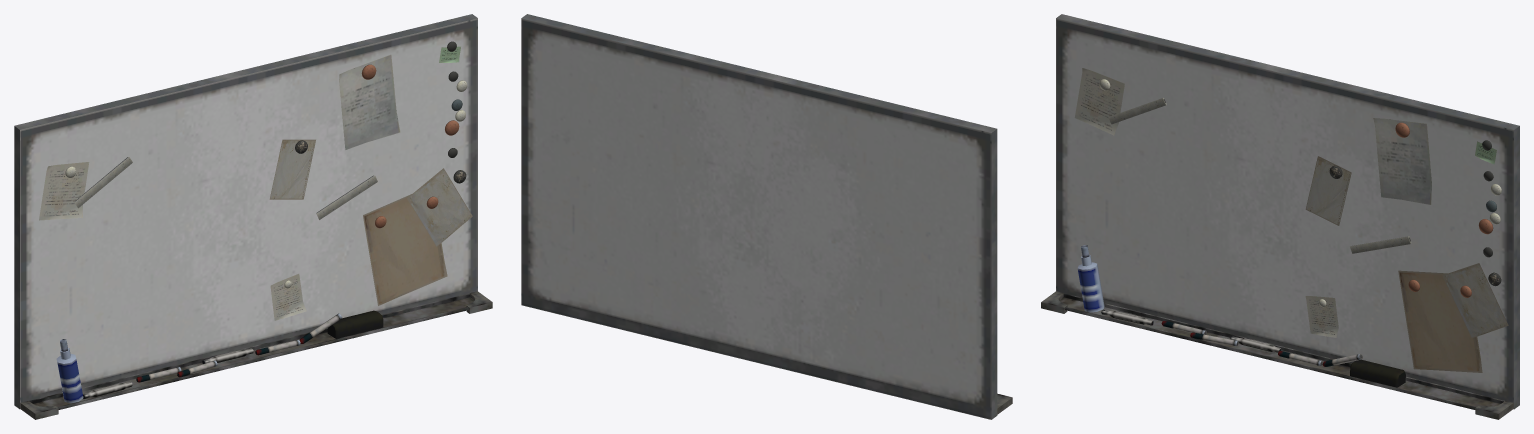
Rendered from sm39_012_whiteboardset01a.fbx.
3 renders of one model, left to right at view 1: azimuth 30°, elevation 25°; view 2: azimuth 150°, elevation 25°; view 3: azimuth 330°, elevation 25°, orthographic. The views are drawn at different scales.
Visible parts, largest first — view 1: LOD_1_Group_0_Sub_1__sm30_061_WhiteBoard02A_A_Mat, LOD_1_Group_0_Sub_3__sm36_011_Document01A_A_Mat__Env_AlphaTe, LOD_1_Group_0_Sub_2__sm36_012_PaperMagnet01A_A_Mat, LOD_1_Group_2_Sub_1__sm36_012_PaperMagnet01A_A_Mat, LOD_1_Group_4_Sub_1__sm36_012_PaperMagnet01A_A_Mat, LOD_1_Group_1_Sub_1__sm36_012_PaperMagnet01A_A_Mat; view 2: LOD_1_Group_0_Sub_1__sm30_061_WhiteBoard02A_A_Mat; view 3: LOD_1_Group_0_Sub_1__sm30_061_WhiteBoard02A_A_Mat, LOD_1_Group_0_Sub_3__sm36_011_Document01A_A_Mat__Env_AlphaTe, LOD_1_Group_0_Sub_2__sm36_012_PaperMagnet01A_A_Mat, LOD_1_Group_2_Sub_1__sm36_012_PaperMagnet01A_A_Mat, LOD_1_Group_4_Sub_1__sm36_012_PaperMagnet01A_A_Mat, LOD_1_Group_1_Sub_1__sm36_012_PaperMagnet01A_A_Mat.
Boxes of the visible parts, x1=… form: LOD_1_Group_0_Sub_1__sm30_061_WhiteBoard02A_A_Mat: x1=14, y1=14, x2=492, y2=419; LOD_1_Group_0_Sub_3__sm36_011_Document01A_A_Mat__Env_AlphaTe: x1=269, y1=139, x2=472, y2=305; LOD_1_Group_0_Sub_2__sm36_012_PaperMagnet01A_A_Mat: x1=39, y1=54, x2=458, y2=220; LOD_1_Group_2_Sub_1__sm36_012_PaperMagnet01A_A_Mat: x1=270, y1=196, x2=438, y2=320; LOD_1_Group_4_Sub_1__sm36_012_PaperMagnet01A_A_Mat: x1=316, y1=110, x2=466, y2=219; LOD_1_Group_1_Sub_1__sm36_012_PaperMagnet01A_A_Mat: x1=439, y1=41, x2=467, y2=110; LOD_1_Group_0_Sub_1__sm30_061_WhiteBoard02A_A_Mat: x1=521, y1=14, x2=1012, y2=419; LOD_1_Group_0_Sub_1__sm30_061_WhiteBoard02A_A_Mat: x1=1041, y1=14, x2=1519, y2=419; LOD_1_Group_0_Sub_3__sm36_011_Document01A_A_Mat__Env_AlphaTe: x1=1305, y1=156, x2=1508, y2=372; LOD_1_Group_0_Sub_2__sm36_012_PaperMagnet01A_A_Mat: x1=1074, y1=68, x2=1493, y2=204; LOD_1_Group_2_Sub_1__sm36_012_PaperMagnet01A_A_Mat: x1=1305, y1=285, x2=1471, y2=337; LOD_1_Group_4_Sub_1__sm36_012_PaperMagnet01A_A_Mat: x1=1350, y1=213, x2=1501, y2=286; LOD_1_Group_1_Sub_1__sm36_012_PaperMagnet01A_A_Mat: x1=1475, y1=140, x2=1501, y2=212.
Bounding box in the file's own units: 2.43 × 1.41 × 0.1918.
